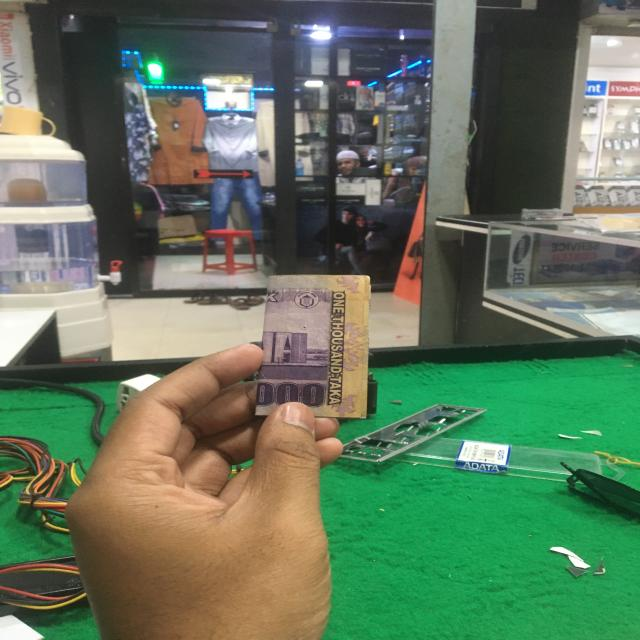Taka: (268, 272, 369, 416)
